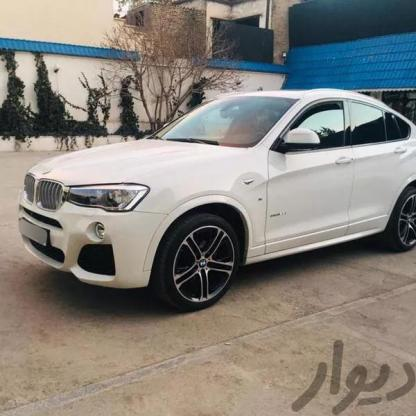Car: (0, 91, 416, 319)
